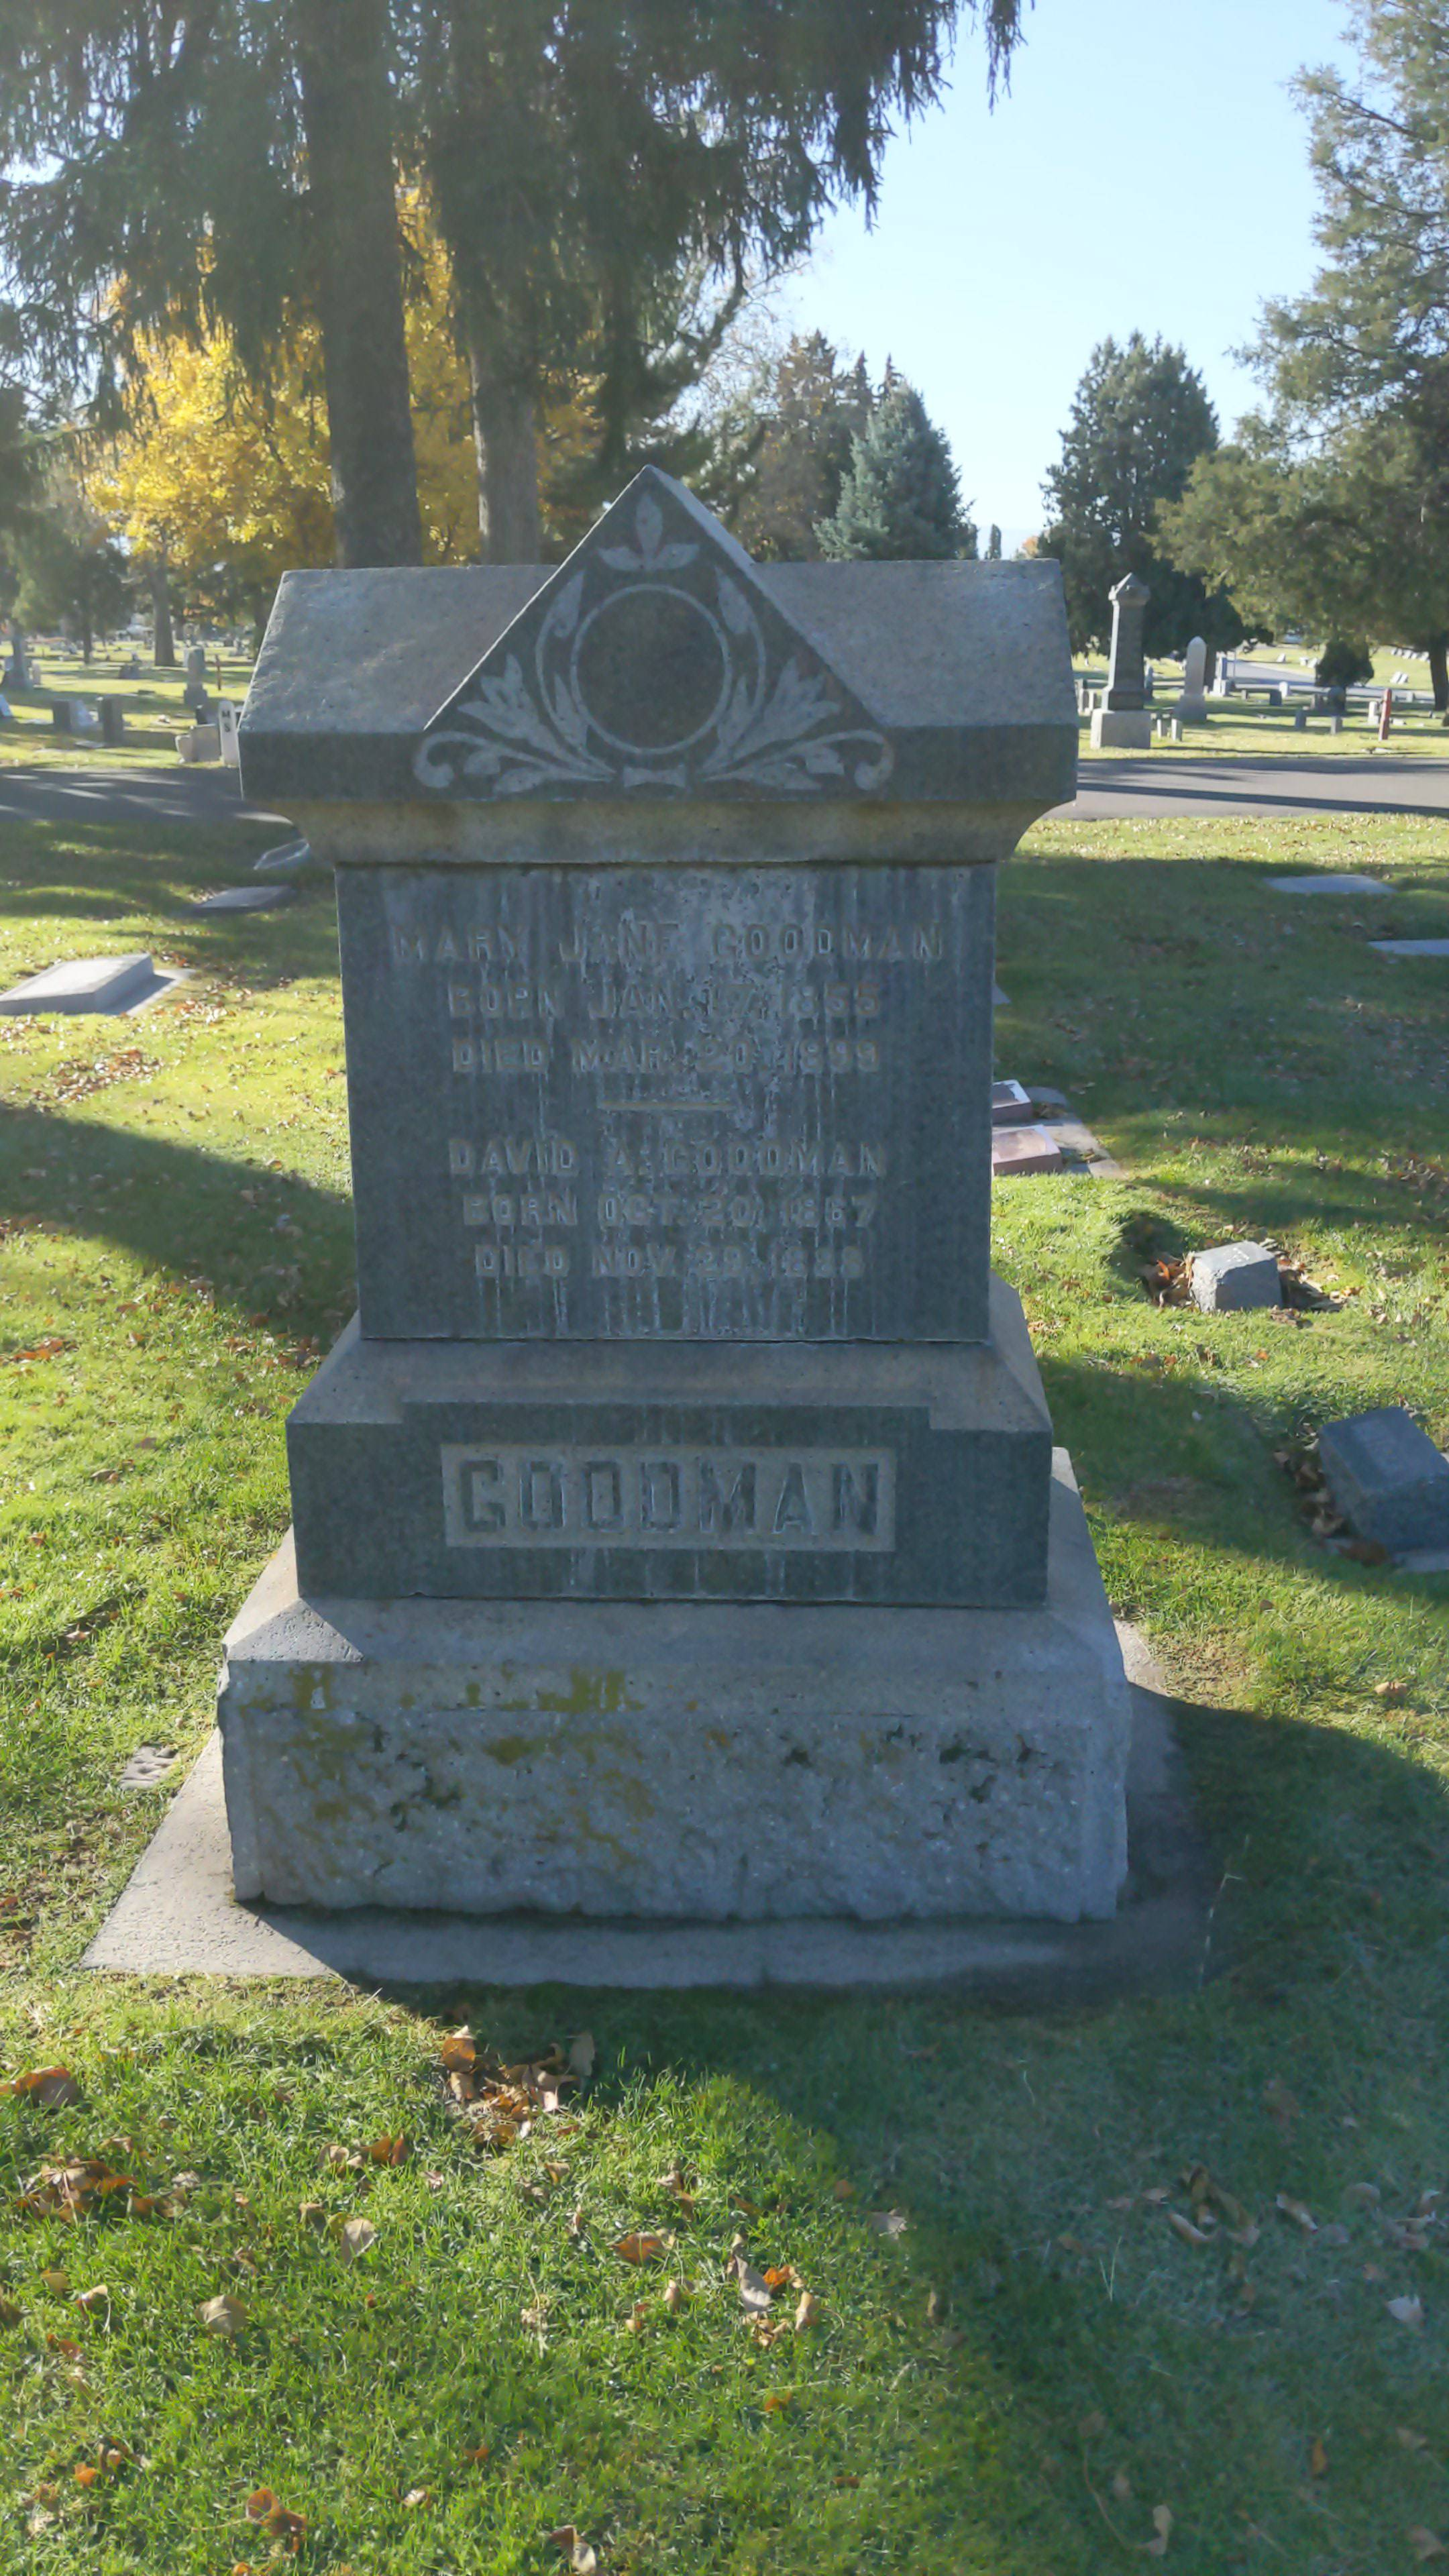obelisk: (232, 476, 1074, 1615)
